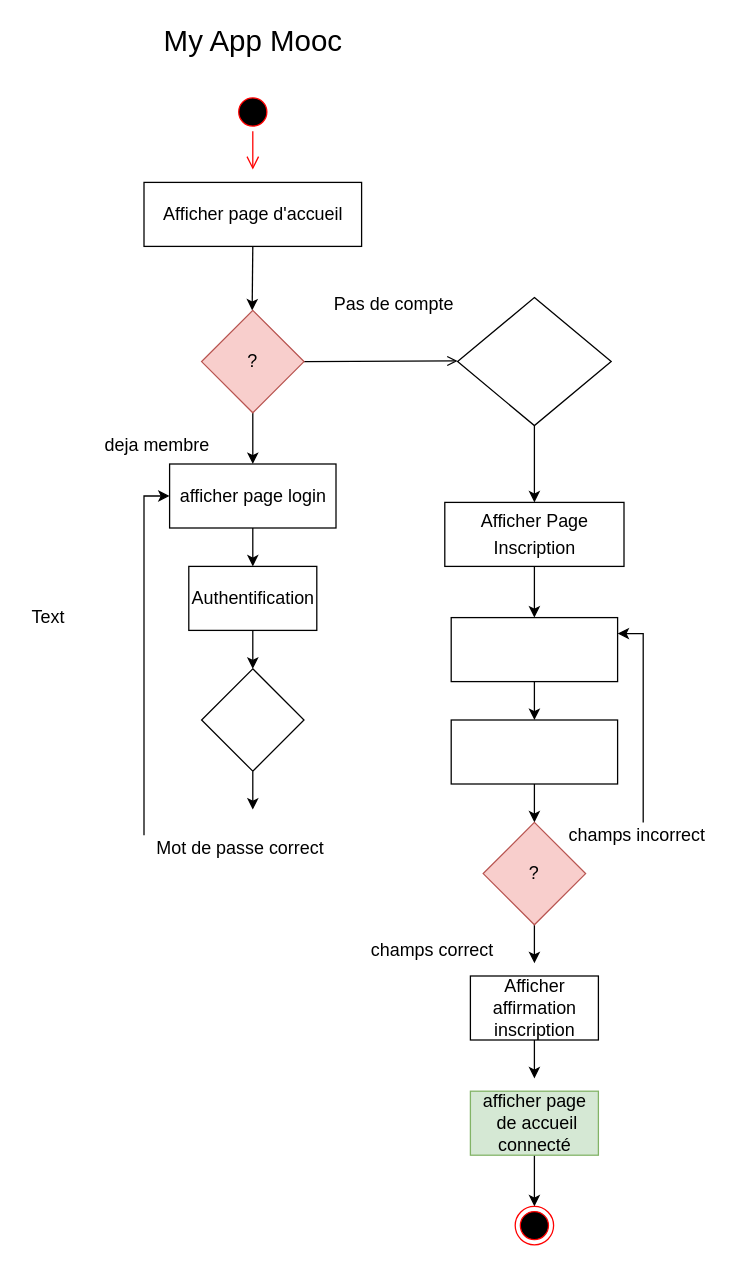
This 735x1267 diagram has some shape labels left out. Here are the shapes that lost their labels. From the top down, the centre of each, then its label:
At point (533, 361): "Inscription".
At point (534, 649): "Remplir les champs".
At point (252, 719): "Verification".
At point (534, 751): "Vérifier les champs".
